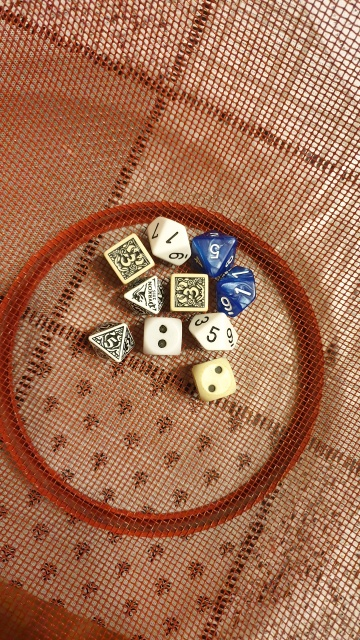d10-1: (211, 263, 260, 318), (147, 217, 192, 267)
d10-5: (183, 308, 239, 356), (193, 227, 236, 279)
d6-2: (187, 354, 237, 404), (138, 313, 185, 358)
d6p-3: (98, 233, 154, 285), (166, 271, 211, 316)
d8p-1: (120, 275, 163, 316)
d8p-5: (87, 321, 135, 363)
